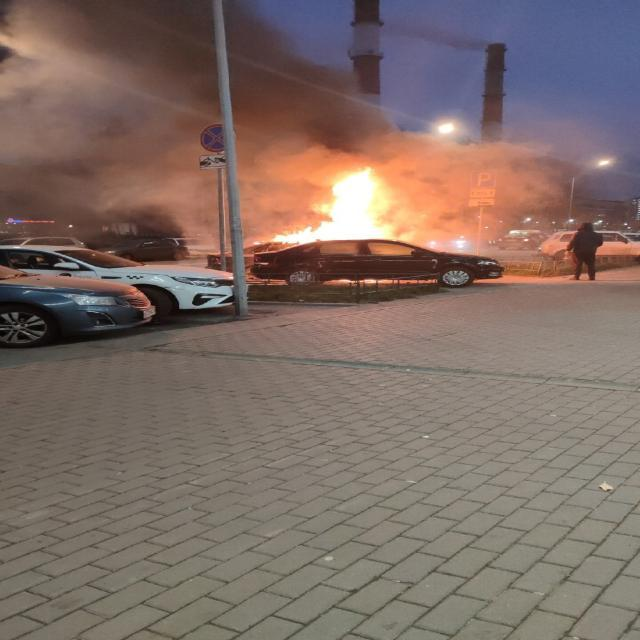Fire: (270, 167, 406, 246)
Smoke: (0, 0, 566, 244)
